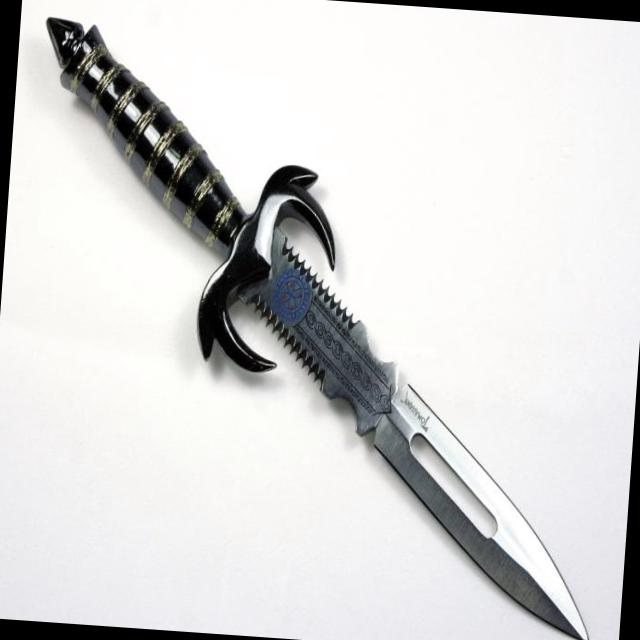Knife: (46, 18, 586, 640)
